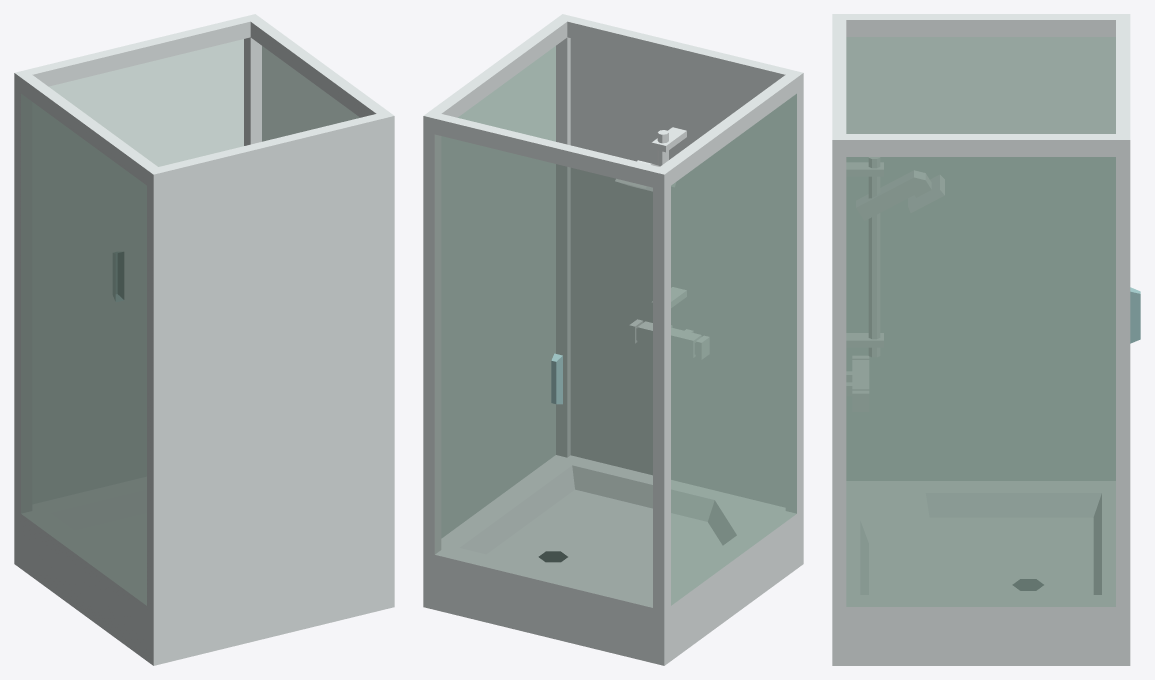
File: shower.fbx
3 views of the same model, side by side, from view 1: azimuth 30°, elevation 25°; view 2: azimuth 150°, elevation 25°; view 3: azimuth 270°, elevation 25° (orthographic). The views are drawn at different scales.
Visible parts, largest first — view 1: shower, doorLeft 3, doorRight 3; view 2: shower, doorLeft 3, doorRight 3; view 3: shower, doorRight 3.
Boxes of the visible parts, box(x1,y1,x2,y2) form: shower: box(14, 14, 394, 665); doorLeft 3: box(135, 39, 243, 166); doorRight 3: box(49, 65, 134, 302); shower: box(423, 14, 803, 665); doorLeft 3: box(434, 134, 543, 581); doorRight 3: box(544, 161, 652, 607); shower: box(832, 14, 1130, 665); doorRight 3: box(1130, 287, 1140, 343).
Bounding box in the file's own units: 5.62 × 10.94 × 5.82.
